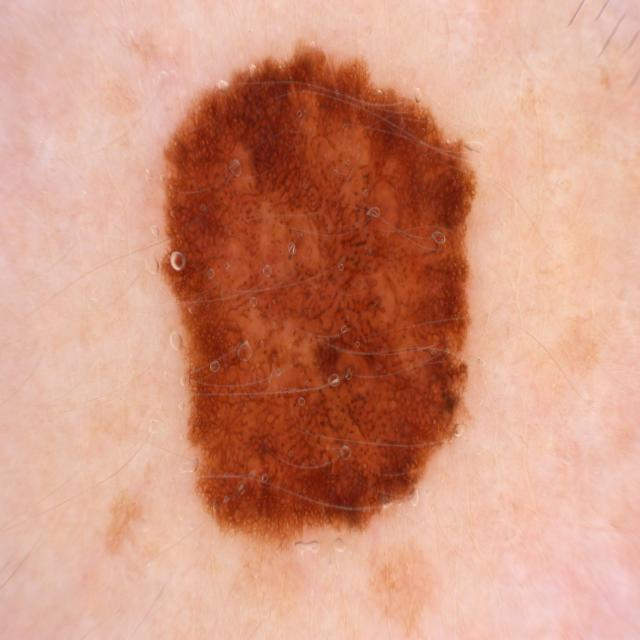Melanoma: (146, 34, 482, 548)
